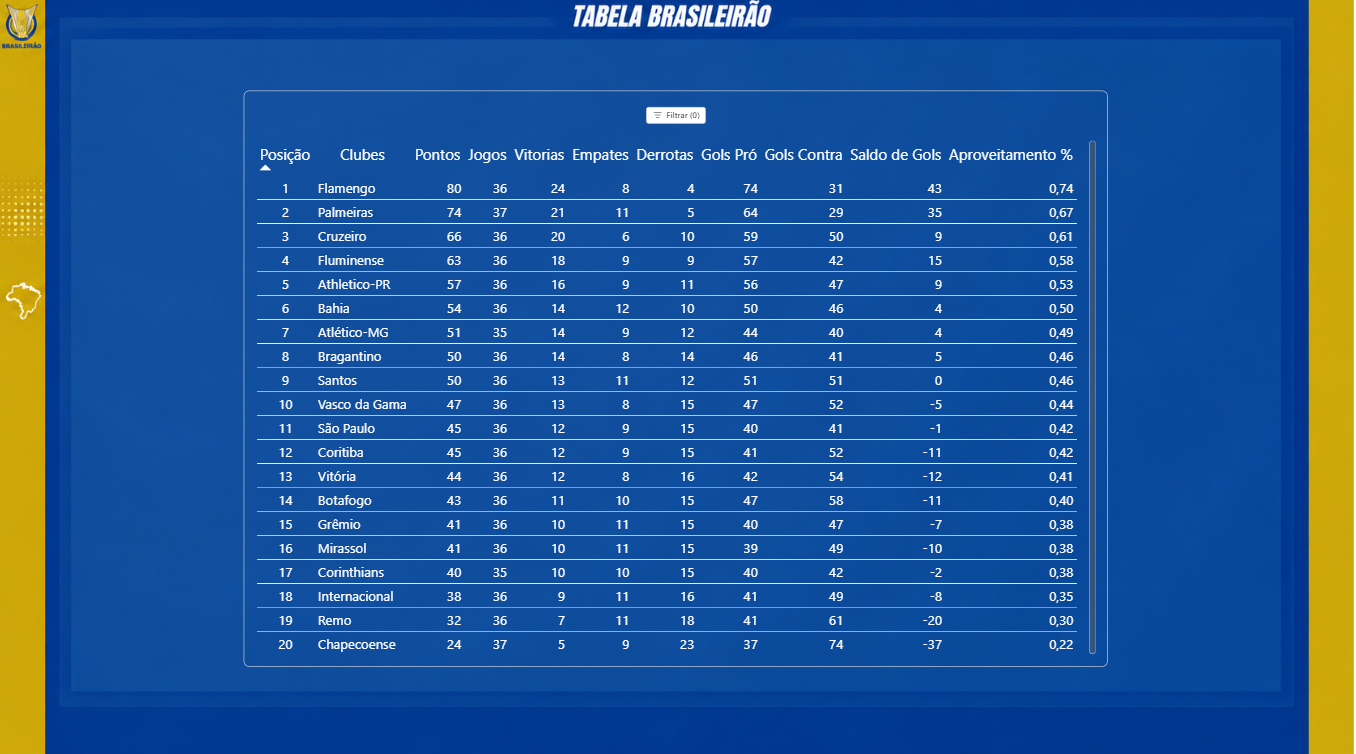

The dashboard page shown, as its layout file describes it:
{"tool":"powerbi","page":{"name":"Tabela 2026","canvas":[1920,1080],"ordinal":1},"visuals":[{"type":"tableEx","fields":{"Values":["Tabela 1.Posição","Tabela 1.Clubes","Tabela 1.Pontos","Tabela 1.Jogos","Tabela 1.Vitorias","Tabela 1.Empates","Tabela 1.Derrotas","Tabela 1.Gols Pró","Tabela 1.Gols Contra","Tabela 1.Saldo de Gols","Tabela 1.Aproveitamento %"]},"box":[348,132,1224,816],"z":0}]}

Visuals, with their boxes in screenshot pixels (x1, y1, x2, y2), scaled from the page's 1920x1080 canvas onto the 1356x754 screenshot:
tableEx - Tabela 1.Posição x Tabela 1.Clubes: (246,92,1110,662)
